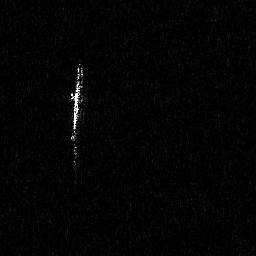ship: (68, 61, 86, 174)
